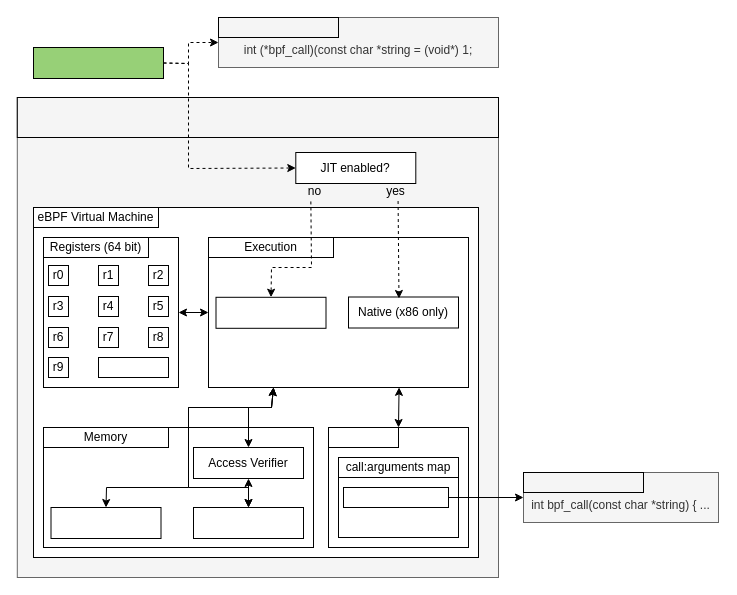
Some shapes in this 737 by 595 pixel diagram are drawn without their labels. Each missing label, with the centre of its shape:
1: const char *: (x=395, y=497)
Heap: (x=248, y=522)
Interpreter: (x=270, y=312)
r10 / FP: (x=133, y=367)
Stack: (x=105, y=522)
syscall header: (x=278, y=27)
syscalls: (x=363, y=437)
uBPF: (x=257, y=117)
User eBPF bytecode: (x=98, y=62)
vendor code: (x=583, y=482)
